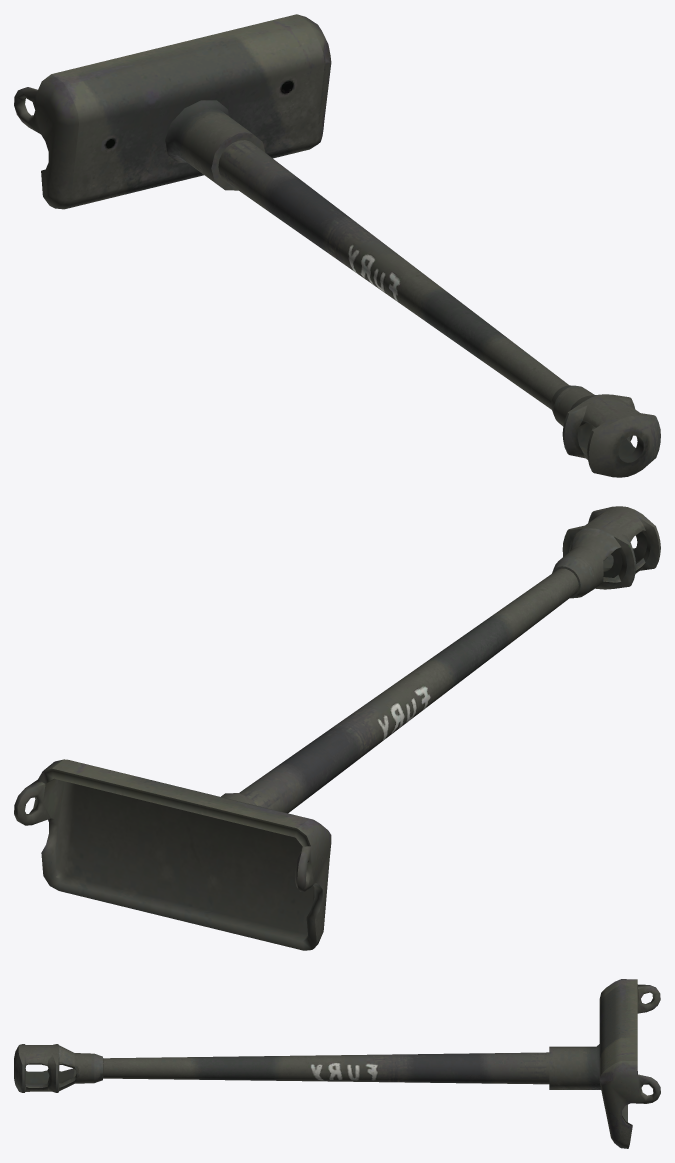
The model's file is FuryGun.fbx.
3 renders of one model, top to bottom at view 1: azimuth 30°, elevation 25°; view 2: azimuth 150°, elevation 25°; view 3: azimuth 270°, elevation 25°, orthographic. The views are drawn at different scales.
Parts seen in each view (by area): view 1: american\A104_M4A3E8A\normal\l\Gun_01.pri~6~7; view 2: american\A104_M4A3E8A\normal\l\Gun_01.pri~6~7; view 3: american\A104_M4A3E8A\normal\l\Gun_01.pri~6~7.
Part boxes in pixels (x1,y1,x2,y2): american\A104_M4A3E8A\normal\l\Gun_01.pri~6~7: [14, 14, 660, 477]; american\A104_M4A3E8A\normal\l\Gun_01.pri~6~7: [14, 506, 660, 950]; american\A104_M4A3E8A\normal\l\Gun_01.pri~6~7: [14, 979, 660, 1148].
Bounding box in the file's own units: 1.23 × 0.517 × 3.48.
1 material, 1 textured.
